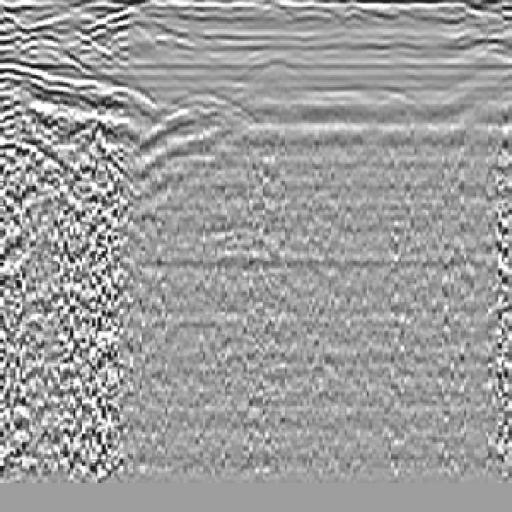non-metallic: (1, 34, 101, 235)
